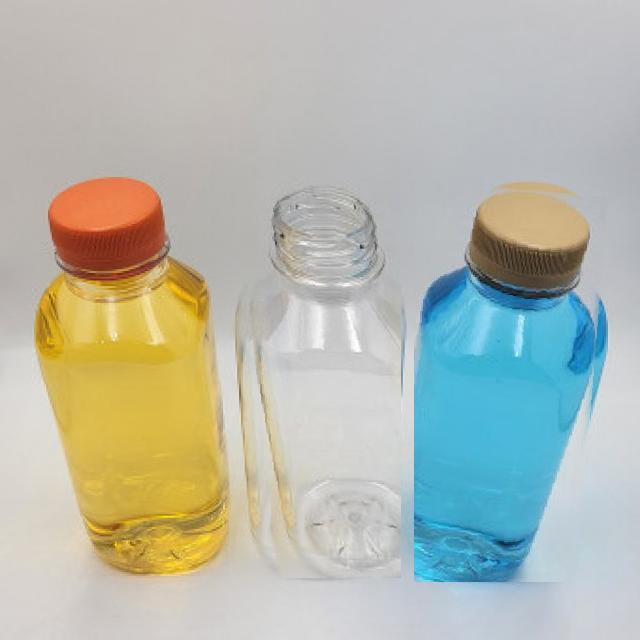plastic bottle: (414, 180, 608, 582), (38, 178, 230, 574), (237, 186, 401, 578)
